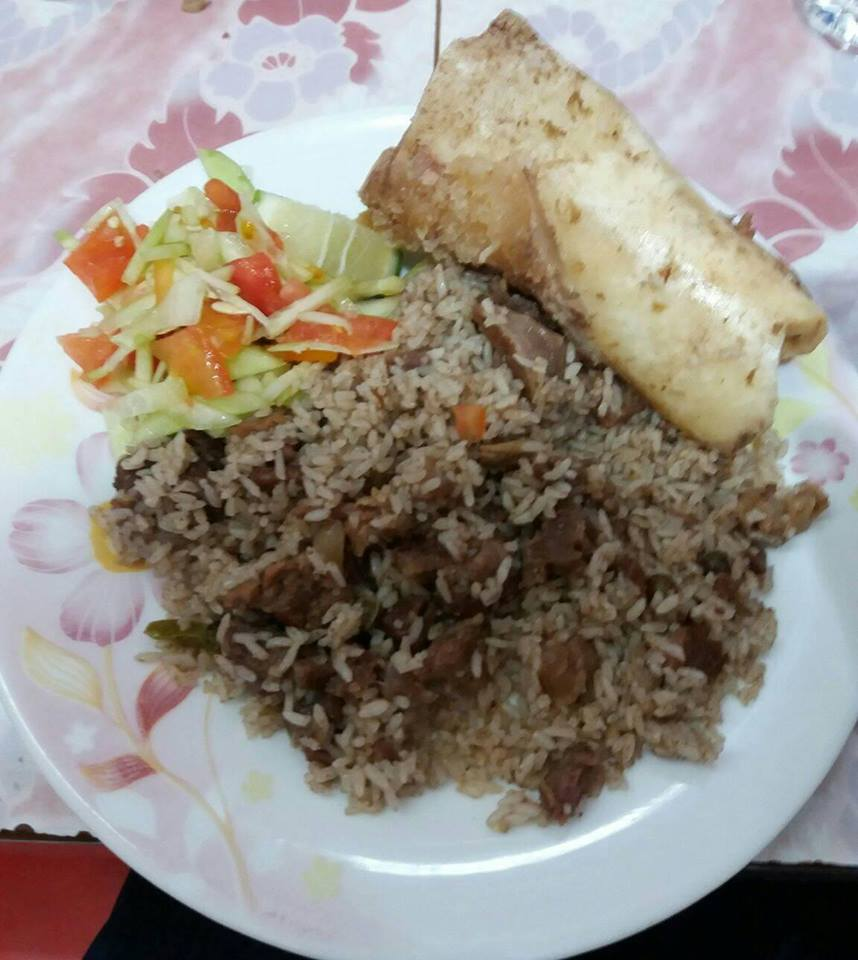tehari: (104, 236, 802, 823)
